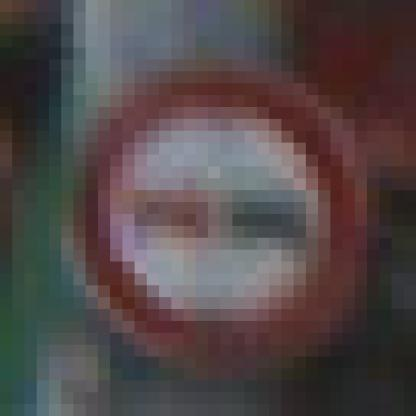No Overtaking: (62, 61, 356, 358)
